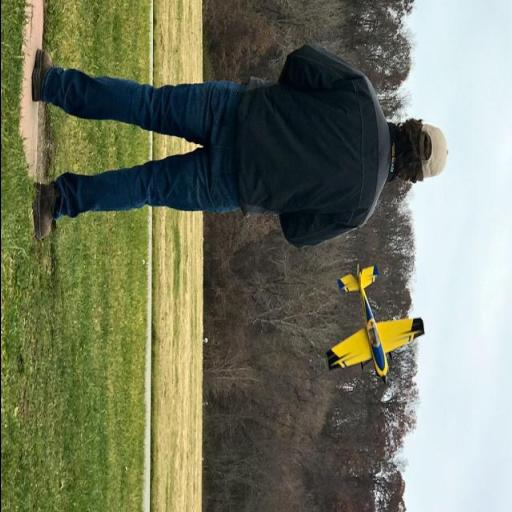uav: (315, 254, 431, 394)
